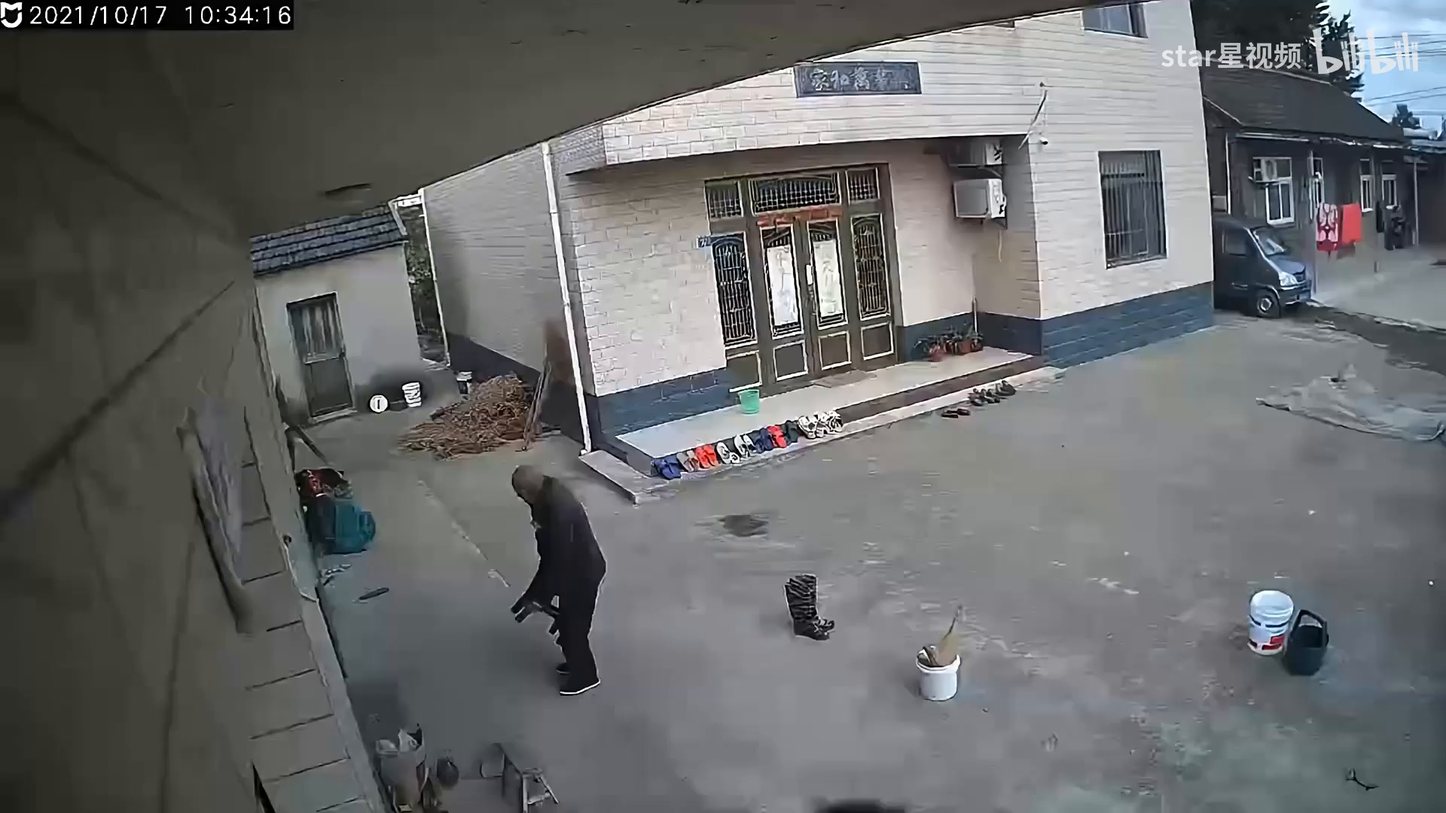stand: (509, 464, 606, 696)
